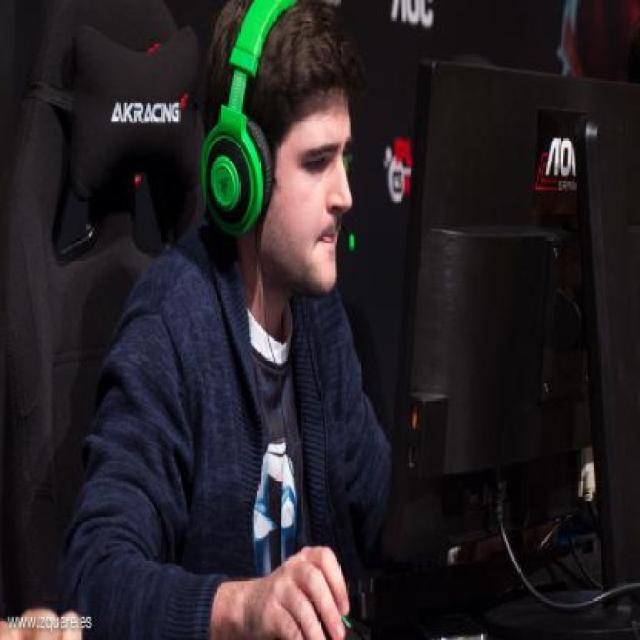earphone: (193, 0, 286, 276)
laptop_computer: (393, 43, 627, 540)
